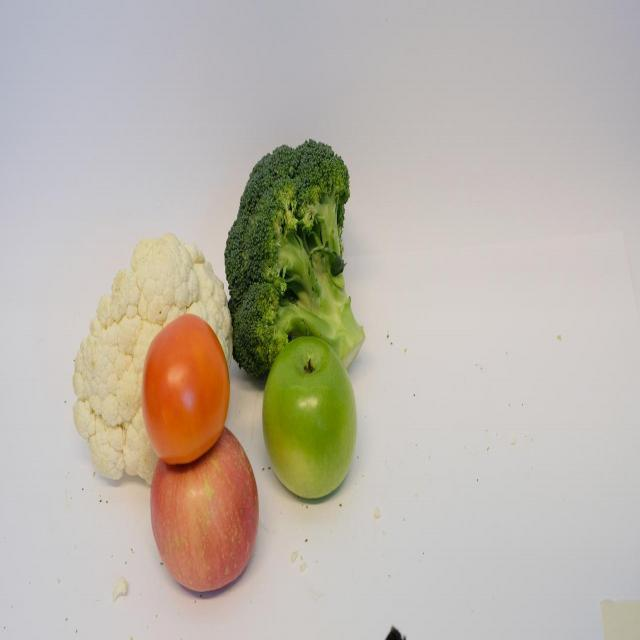apple: (150, 448, 262, 586), (264, 349, 358, 506)
broccoli: (208, 124, 370, 379)
cauliflower: (59, 200, 226, 474)
tomato: (136, 311, 232, 471)
